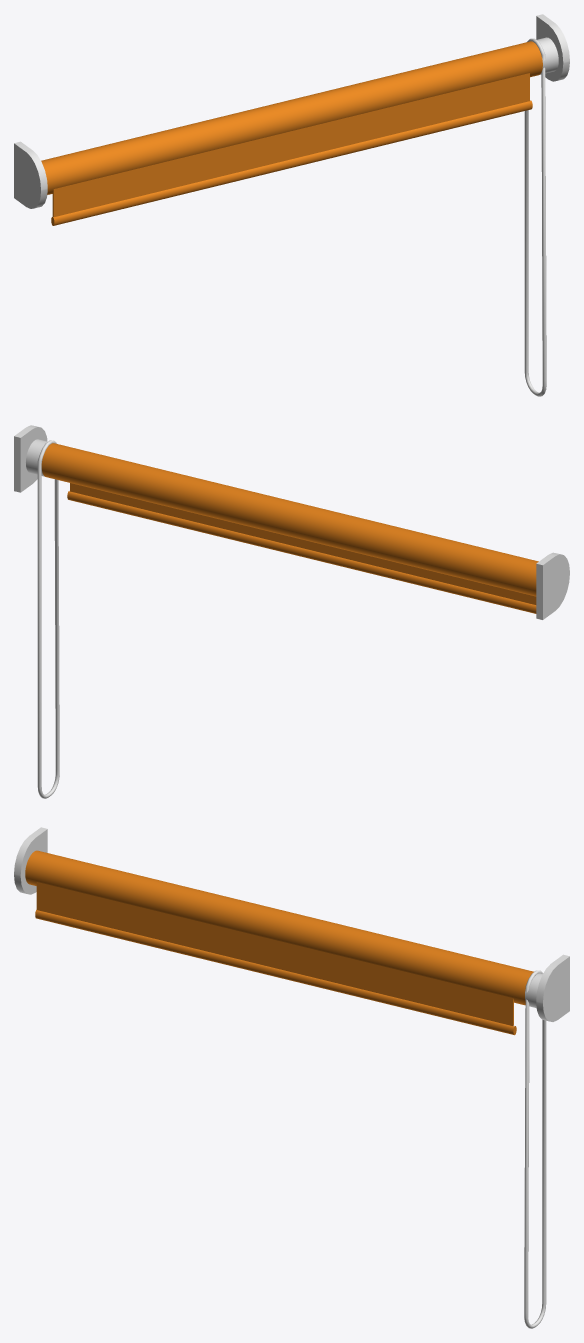
File: roleta_1_v2.fbx
3 renders of one model, top to bottom at view 1: azimuth 30°, elevation 25°; view 2: azimuth 150°, elevation 25°; view 3: azimuth 330°, elevation 25°, orthographic.
Visible parts, largest first — view 1: Plane; view 2: Plane; view 3: Plane.
Part boxes in pixels (x1,y1,x2,y2): Plane: (14, 14, 569, 396); Plane: (14, 425, 569, 798); Plane: (14, 827, 569, 1328).
Bounding box in the file's own units: 152 × 100 × 13.43.
